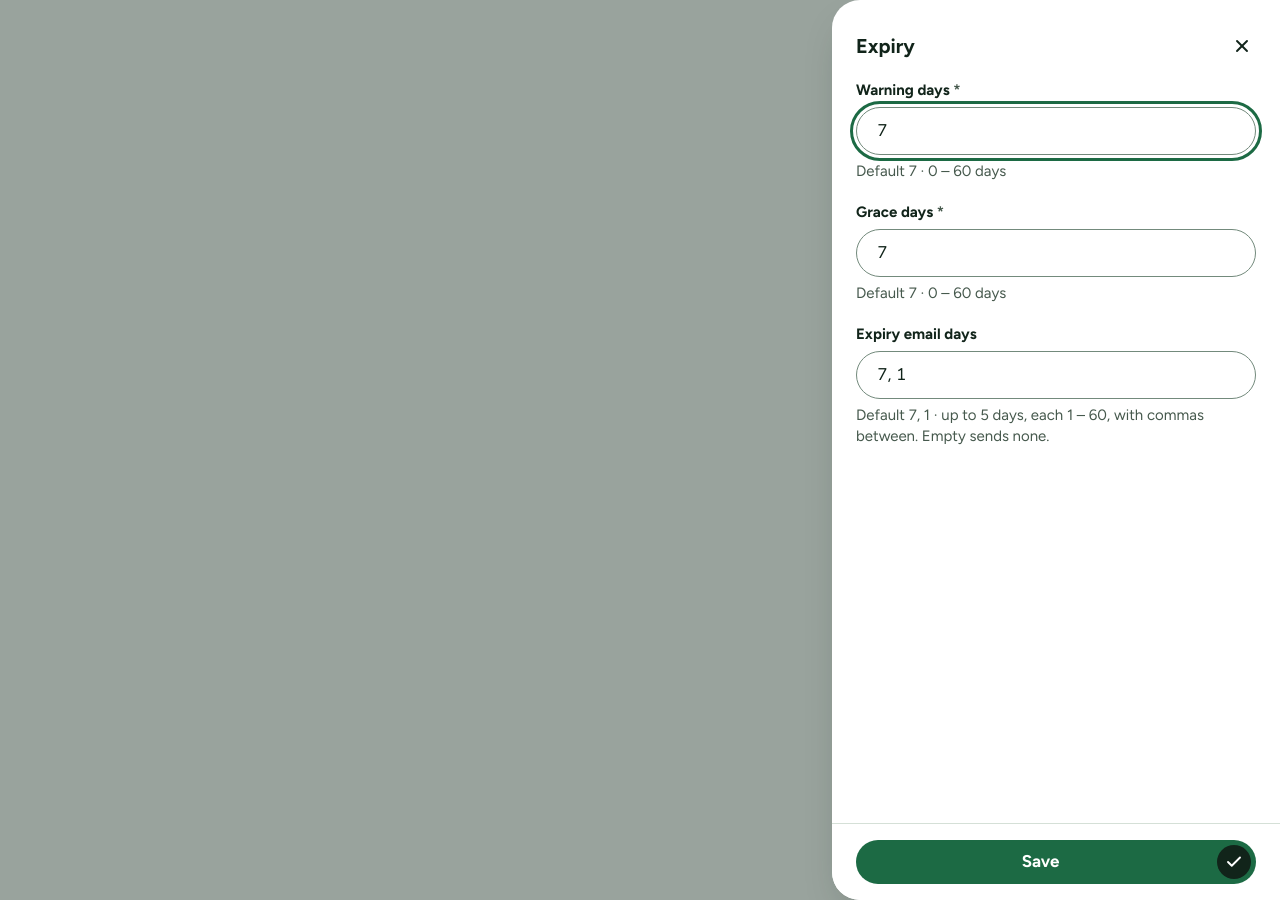
Test case: SettingsSheet (plan §20.4; D378 – D381) › refuses a setting out of its bounds in its own words
Replace the text in the field labelled "Grace days *" with "61" at (1056, 253), box [856,229,1256,277]
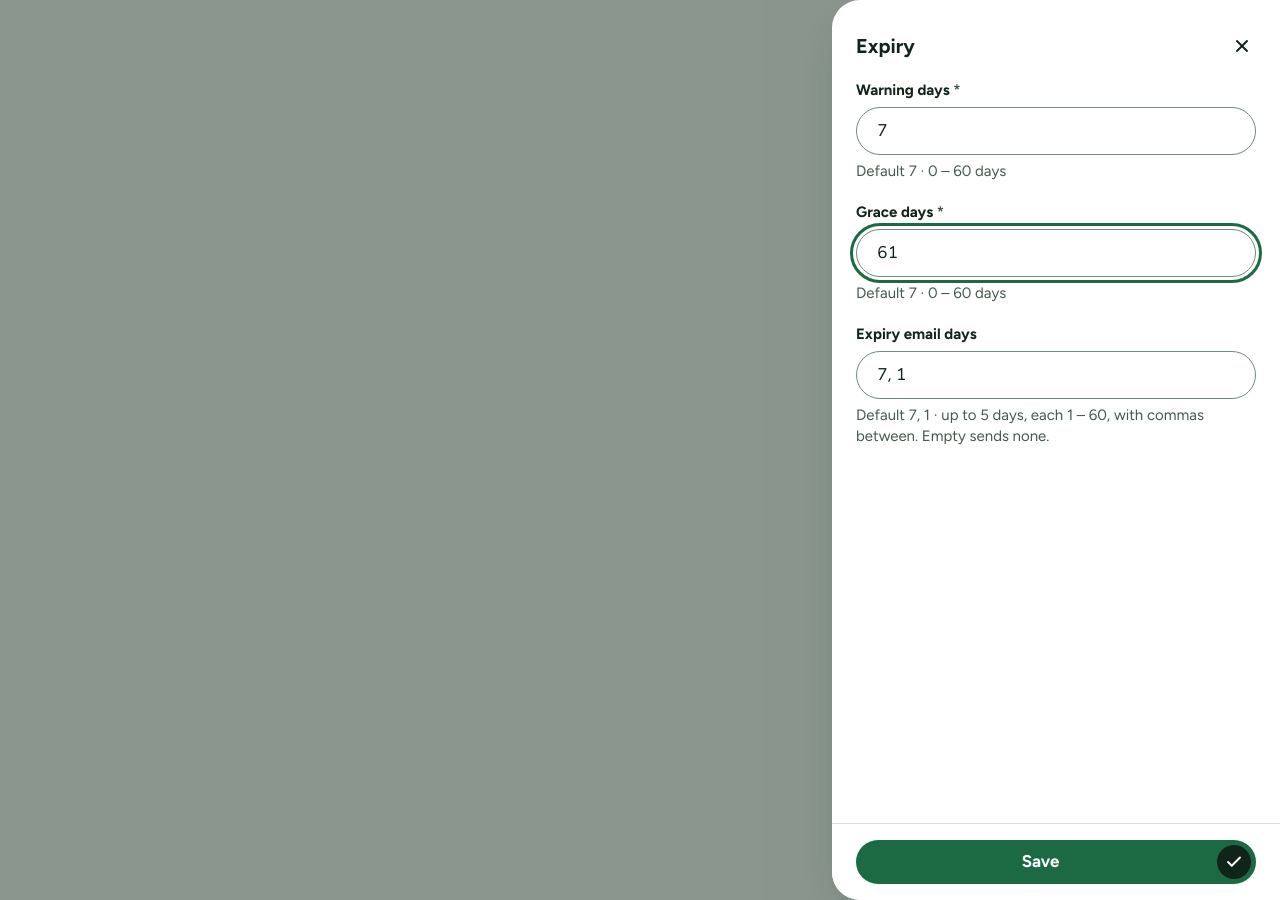
Click the button "Save" at (1056, 862), box [856,840,1256,884]
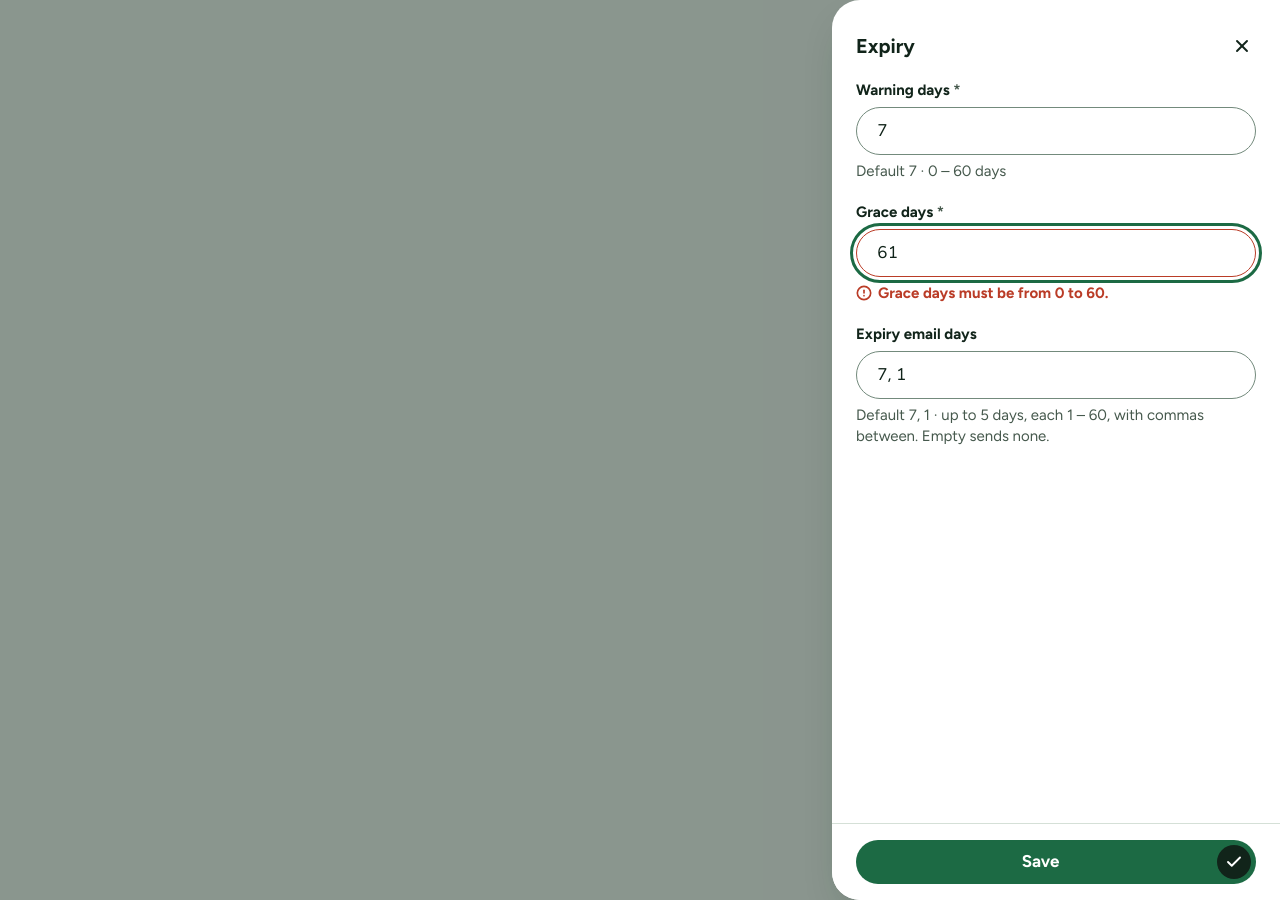
Check: the text "Grace days must be from 0 to 60." is shown, box [856,284,1108,302]
